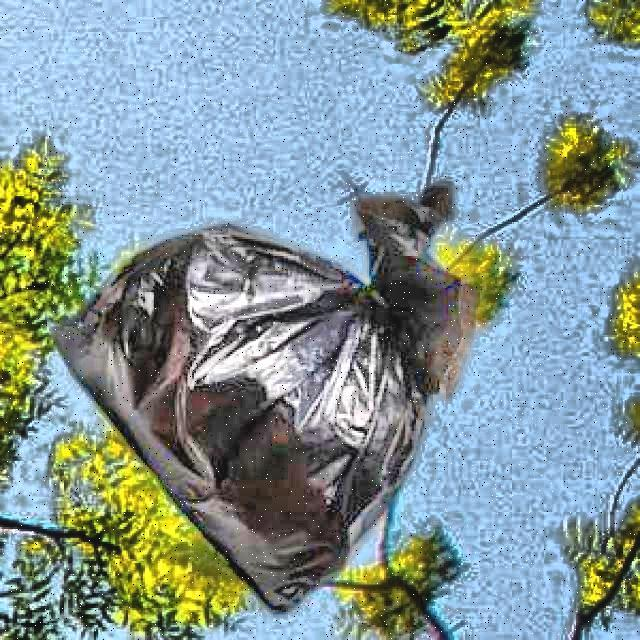Trashbag: (52, 178, 480, 615)
